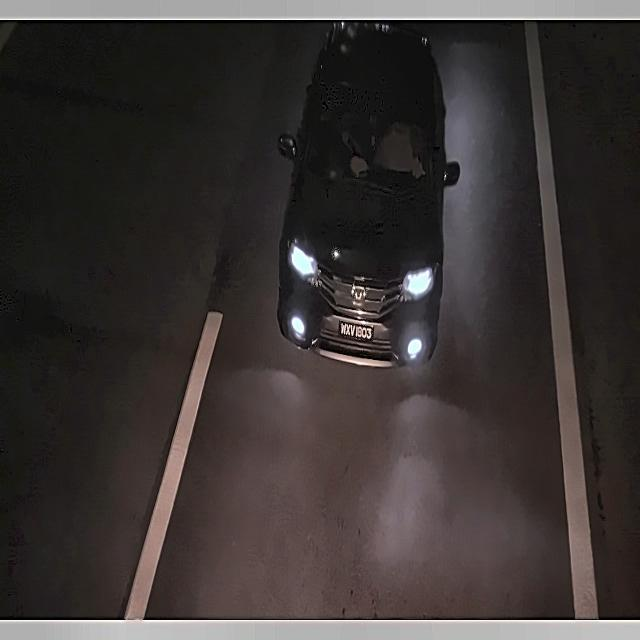car: (334, 309, 376, 352)
